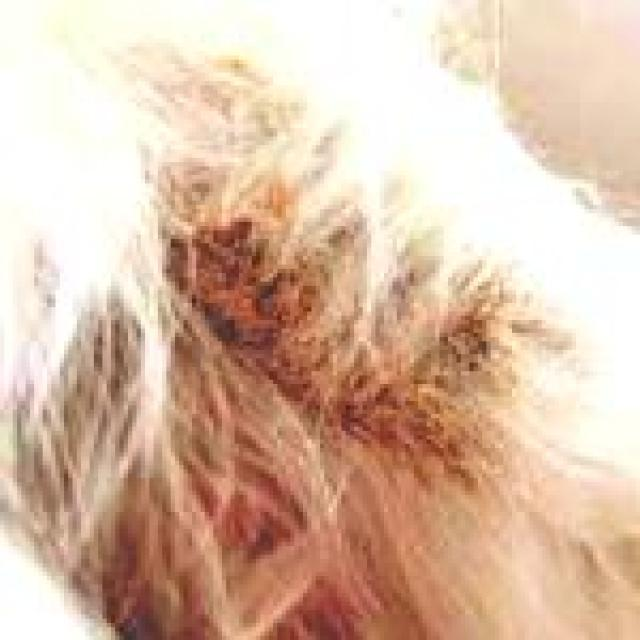fungal infection: (169, 192, 326, 344), (346, 377, 466, 454), (421, 298, 505, 378)
